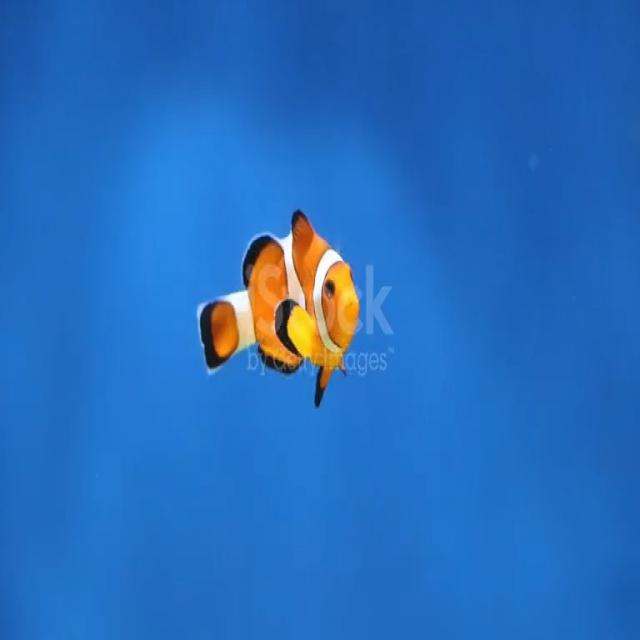fish: (190, 203, 362, 423)
